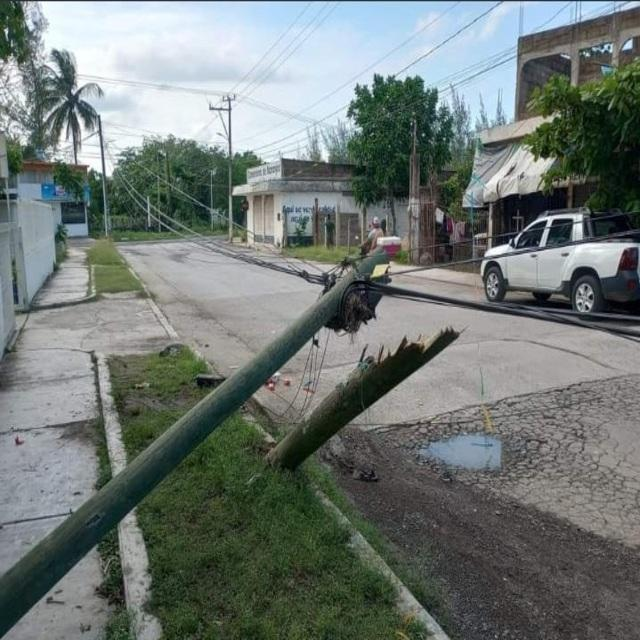Inclined Pole: (0, 238, 397, 640), (259, 325, 464, 469)
